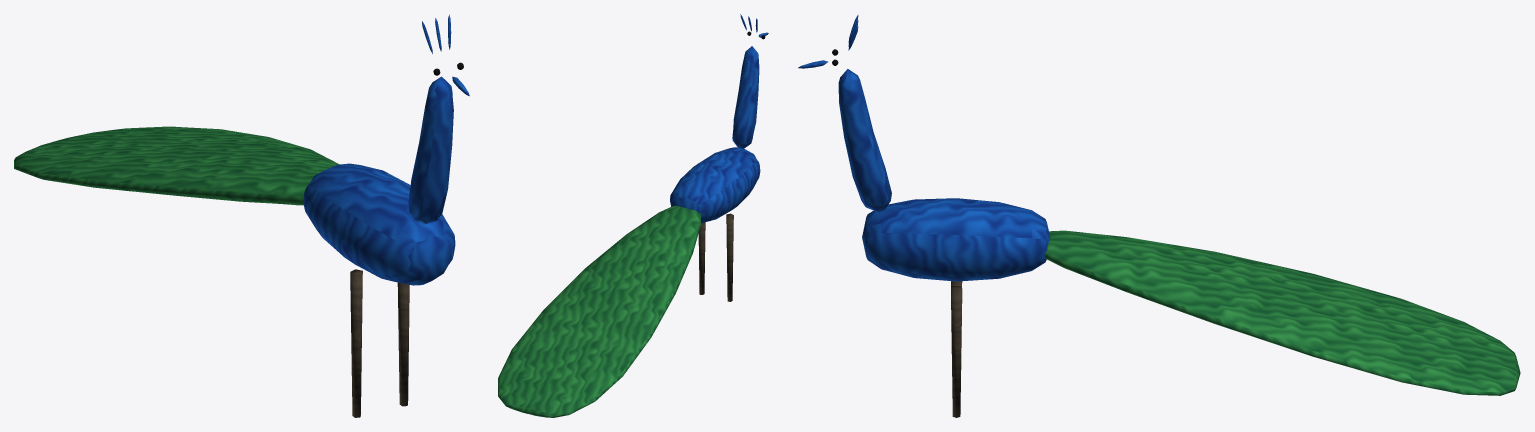
Rendered from animal_peacock.glb.
The picture shows the model from 3 angles, left to right: view 1: azimuth 30°, elevation 25°; view 2: azimuth 150°, elevation 25°; view 3: azimuth 270°, elevation 25°; orthographic projection. The views are drawn at different scales.
Parts seen in each view (by area): view 1: Tail.007, Body.007, Head.007, Leg_FL.007, Leg_FR.007; view 2: Tail.007, Body.007, Head.007, Leg_FL.007, Leg_FR.007; view 3: Tail.007, Body.007, Head.007, Leg_FR.007.
Part boxes in pixels (bbox=[...]): Tail.007: bbox=[14, 126, 339, 205]; Body.007: bbox=[303, 163, 455, 285]; Head.007: bbox=[408, 14, 469, 224]; Leg_FL.007: bbox=[350, 269, 362, 417]; Leg_FR.007: bbox=[397, 282, 409, 406]; Tail.007: bbox=[498, 205, 700, 417]; Body.007: bbox=[670, 147, 760, 222]; Head.007: bbox=[732, 14, 768, 148]; Leg_FL.007: bbox=[726, 213, 733, 301]; Leg_FR.007: bbox=[698, 222, 705, 294]; Tail.007: bbox=[1045, 230, 1520, 395]; Body.007: bbox=[862, 198, 1049, 281]; Head.007: bbox=[798, 14, 891, 212]; Leg_FR.007: bbox=[951, 286, 962, 417].
Bounding box in the file's own units: 0.4753 × 1.05 × 1.79.
4 materials, 4 textured.
